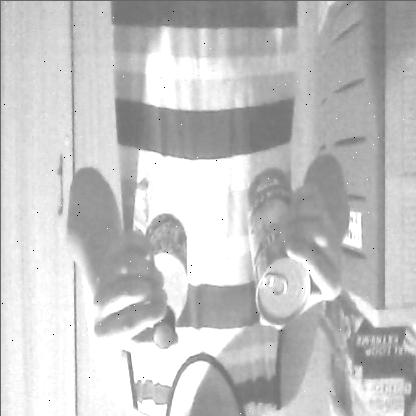Plastic Bottle: (135, 138, 196, 352)
